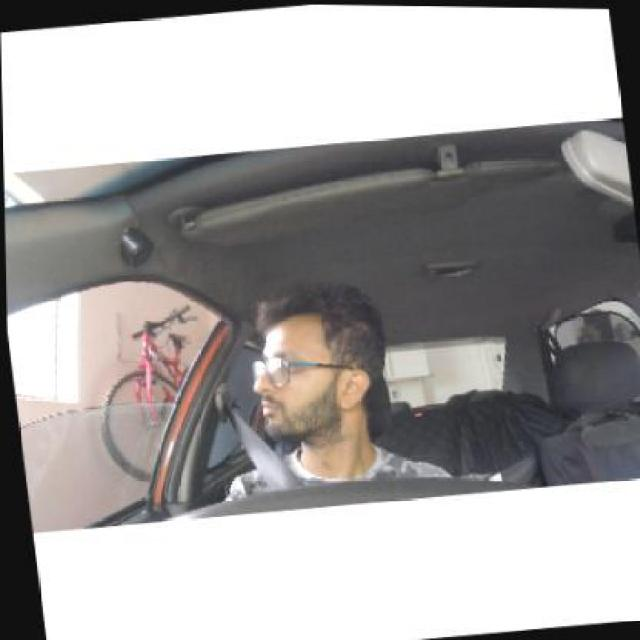LeftRight: (238, 292, 392, 449)
